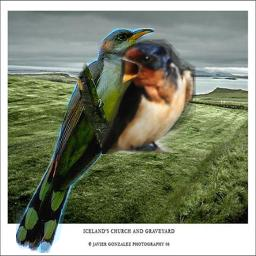Cuckoo: (16, 28, 154, 253)
Swallow: (102, 39, 196, 154)
